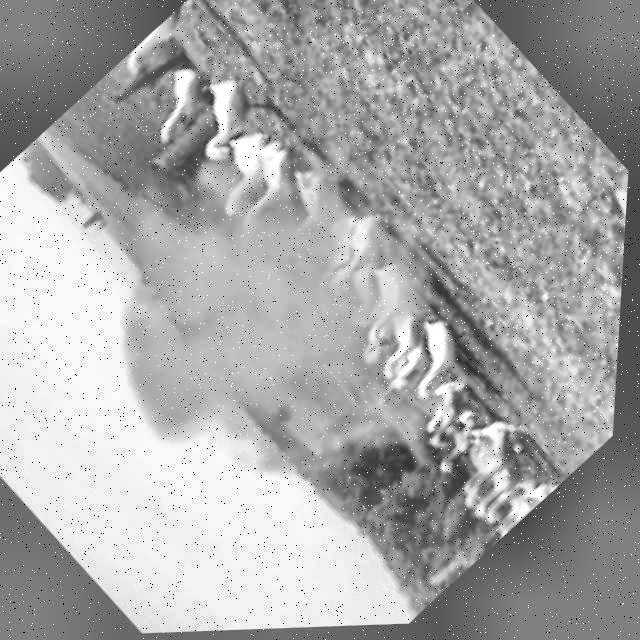Smoke: (13, 39, 550, 582)
